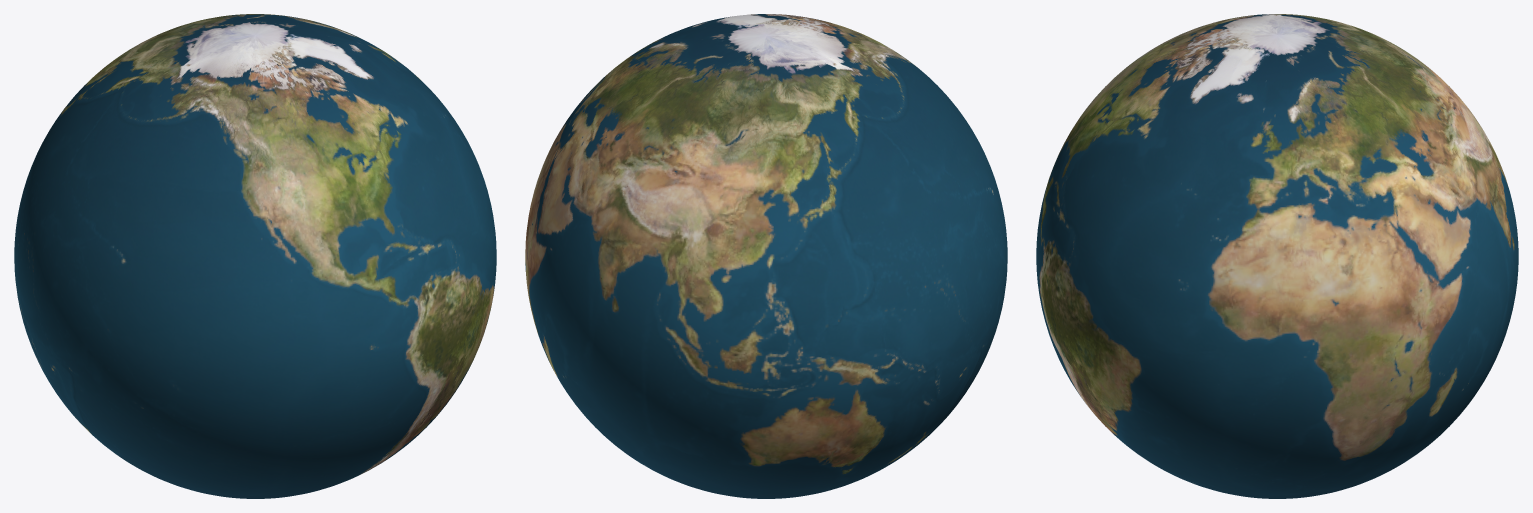
Rendered from earth.obj.
The picture shows the model from 3 angles, left to right: view 1: azimuth 30°, elevation 25°; view 2: azimuth 150°, elevation 25°; view 3: azimuth 270°, elevation 25°; orthographic projection.
Visible parts, largest first — view 1: Sphere; view 2: Sphere; view 3: Sphere.
Boxes of the visible parts, left/top/right/bottom form: Sphere: left=14, top=14, right=496, bottom=498; Sphere: left=525, top=14, right=1007, bottom=498; Sphere: left=1036, top=14, right=1518, bottom=498.
Size of the model in its own units: 1.97 by 2 by 1.97.
Materials: 1 (1 with a texture image).
